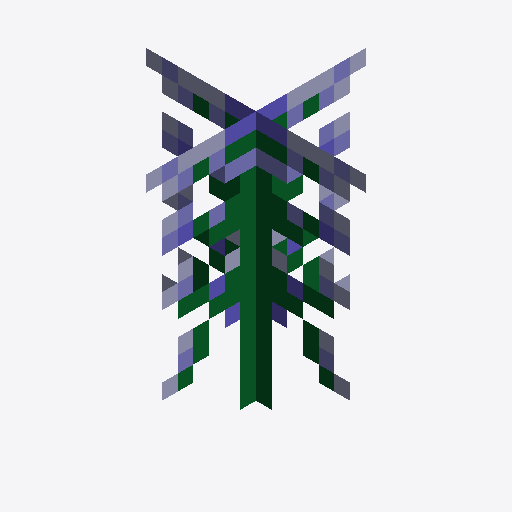
A Minecraft block model of 66 cuboids, rendered isometrically (azimuth 45°, elevation 35.3°) with the resource pack's own textures.
Visible parts, largest first — BottomStalk (×2), element 29, element 60, element 6, element 31, element 57, element 62, element 2, element 59, element 30, element 63, element 3 (+27 smaller).
Part boxes in pixels (left/top/right/bottom): BottomStalk (×2): left=240, top=102, right=271, bottom=409; element 29: left=209, top=193, right=239, bottom=246; element 60: left=272, top=193, right=302, bottom=246; element 6: left=178, top=320, right=208, bottom=372; element 31: left=162, top=202, right=192, bottom=255; element 57: left=303, top=320, right=333, bottom=372; element 62: left=319, top=202, right=349, bottom=255; element 2: left=225, top=247, right=239, bottom=327; element 59: left=272, top=247, right=286, bottom=327; element 30: left=319, top=112, right=349, bottom=155; element 63: left=162, top=112, right=192, bottom=155; element 3: left=225, top=121, right=239, bottom=182.
Bounding box in the file's own units: 14 × 16 × 14.